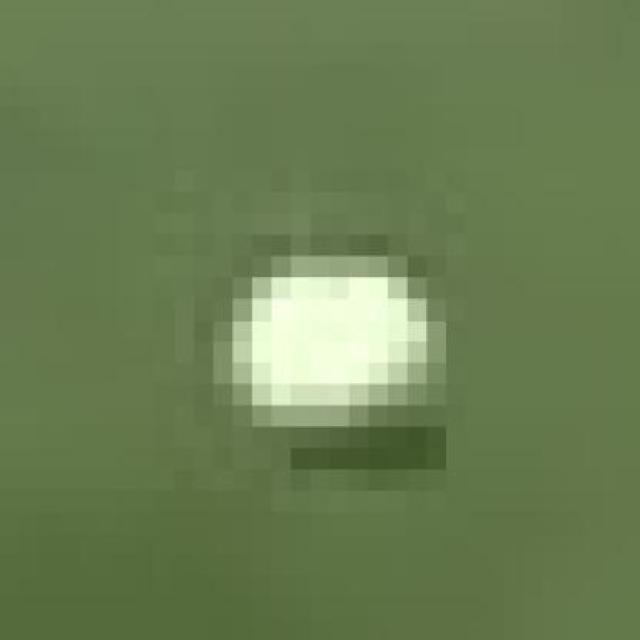Cricket ball: (216, 251, 440, 439)
